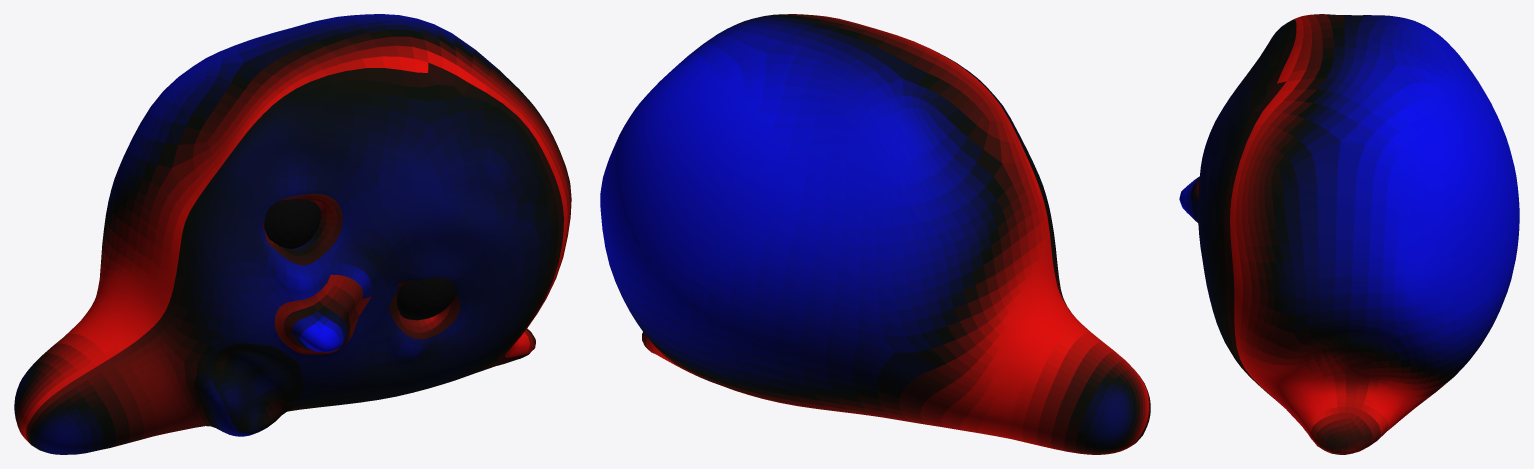
Rendered from Bottom.fbx.
3 renders of one model, left to right at view 1: azimuth 30°, elevation 25°; view 2: azimuth 150°, elevation 25°; view 3: azimuth 270°, elevation 25°, orthographic. The views are drawn at different scales.
Visible parts, largest first — view 1: Bottom; view 2: Bottom; view 3: Bottom.
Boxes of the visible parts, x1,y1,x2,y2 form: Bottom: (14, 14, 571, 454); Bottom: (600, 14, 1150, 454); Bottom: (1179, 14, 1519, 454).
Size of the model in its own units: 4.9 by 3.28 by 2.99.
